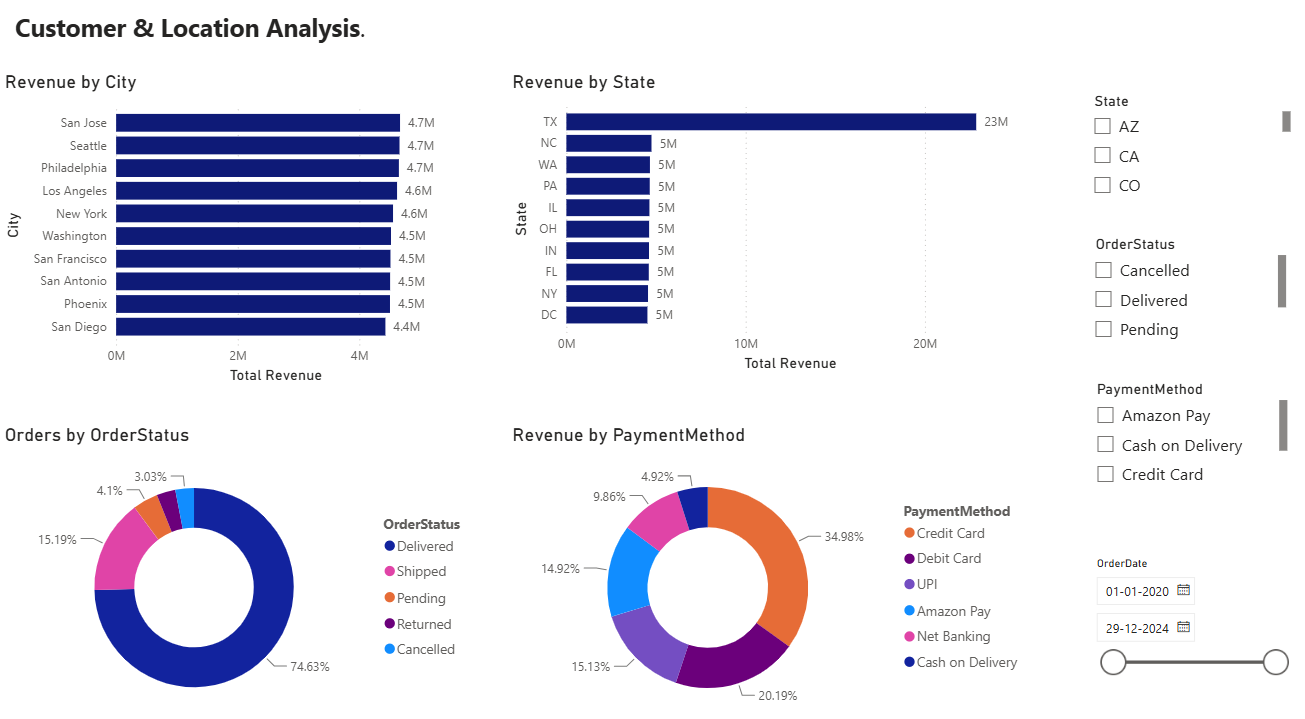

Layout of this report page (visuals, bound fields, positions):
{"tool":"powerbi","page":{"name":"Page 3","canvas":[1280,720],"ordinal":2},"visuals":[{"type":"textbox","box":[9.8,12.2,1270.5,63.6],"z":0},{"type":"clusteredBarChart","title":"Revenue by State","fields":{"Y":["Amazon.Total Revenue"],"Category":["Amazon.State"]},"box":[496.7,75.5,513.2,299.1],"z":1},{"type":"clusteredBarChart","title":"Revenue by City","fields":{"Y":["Amazon.Total Revenue"],"Category":["Amazon.City"]},"box":[0,75.5,440.5,311.5],"z":2},{"type":"donutChart","title":"Revenue by PaymentMethod","fields":{"Category":["Amazon.PaymentMethod"],"Y":["Amazon.Total Revenue"]},"box":[496.7,421.3,513.2,299.1],"z":3},{"type":"donutChart","title":"Orders by OrderStatus","fields":{"Category":["Amazon.OrderStatus"],"Y":["Amazon.Total Orders"]},"box":[0,421.3,472,299.1],"z":4},{"type":"slicer","fields":{"Values":["Amazon.State"]},"box":[1058,91.9,209.9,115.3],"z":5},{"type":"slicer","fields":{"Values":["Amazon.PaymentMethod"]},"box":[1060.7,374.6,204.5,122.1],"z":6},{"type":"slicer","fields":{"Values":["Amazon.OrderStatus"]},"box":[1059.4,231.9,204.5,115.3],"z":7},{"type":"slicer","fields":{"Values":["Amazon.OrderDate"]},"box":[1060.7,546.1,208.6,123.5],"z":8}]}

Visuals, with their boxes in screenshot pixels (x1, y1, x2, y2), scaled from the page's 1280x720 canvas onto the 1305x719 screenshot:
textbox: x1=10, y1=12, x2=1304, y2=76
"Revenue by State" clusteredBarChart: x1=506, y1=75, x2=1030, y2=374
"Revenue by City" clusteredBarChart: x1=0, y1=75, x2=449, y2=386
"Revenue by PaymentMethod" donutChart: x1=506, y1=421, x2=1030, y2=718
"Orders by OrderStatus" donutChart: x1=0, y1=421, x2=481, y2=718
slicer - Amazon.State: x1=1079, y1=92, x2=1293, y2=207
slicer - Amazon.PaymentMethod: x1=1081, y1=374, x2=1290, y2=496
slicer - Amazon.OrderStatus: x1=1080, y1=232, x2=1289, y2=347
slicer - Amazon.OrderDate: x1=1081, y1=545, x2=1294, y2=669
